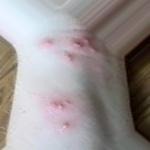Ants: (71, 37, 96, 55), (47, 100, 65, 111), (39, 37, 53, 48), (60, 120, 71, 129), (63, 50, 72, 61)
